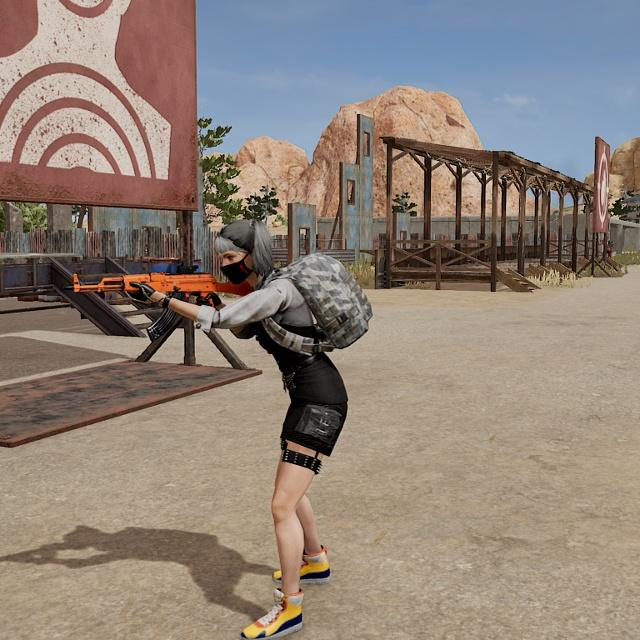head: (211, 218, 284, 295)
people: (180, 215, 353, 640)
